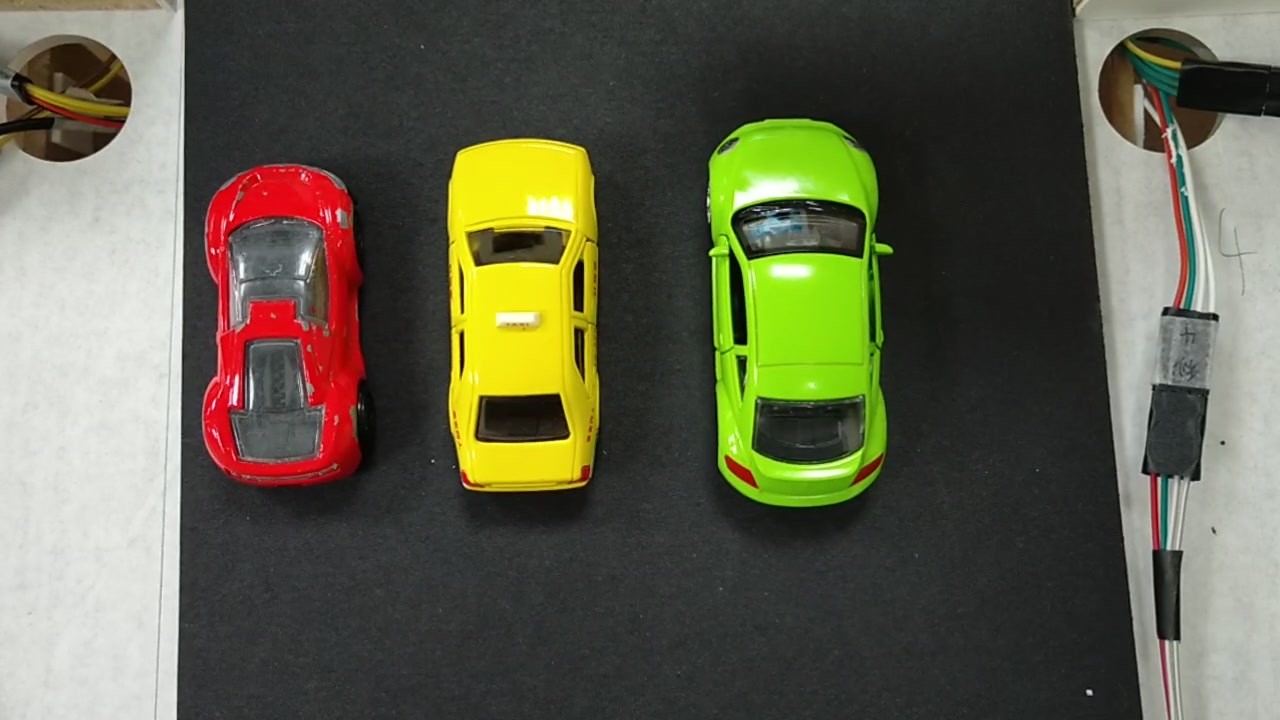car: (712, 123, 889, 496), (451, 152, 591, 486), (204, 176, 351, 479)
